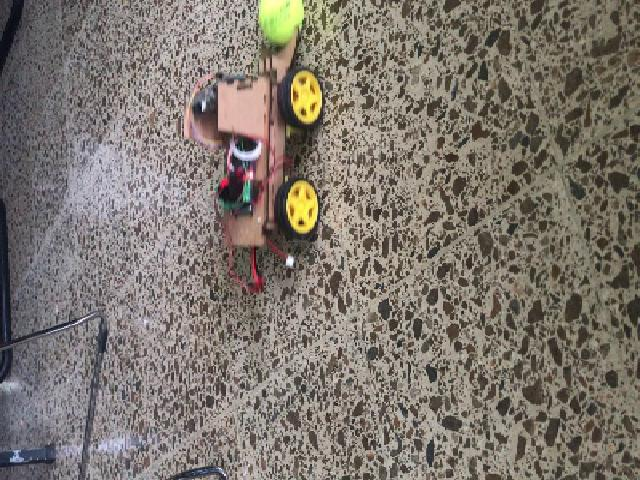Ball: (251, 2, 306, 43)
Robot: (184, 25, 322, 250)
